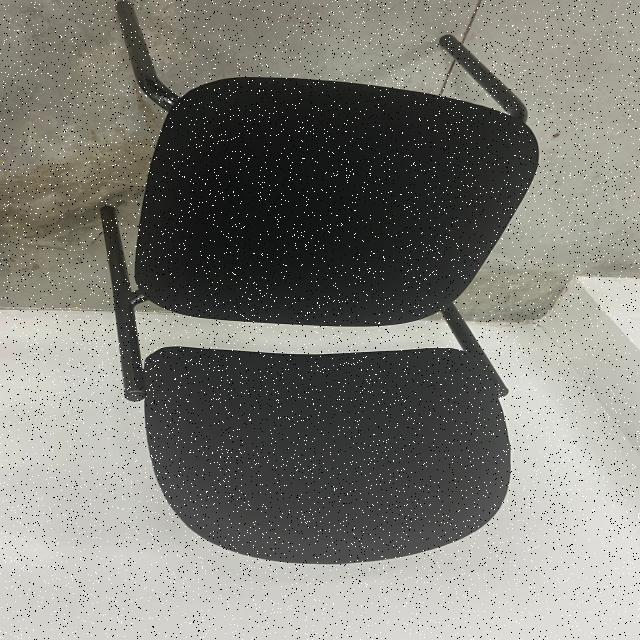bottle: (69, 0, 552, 572)
